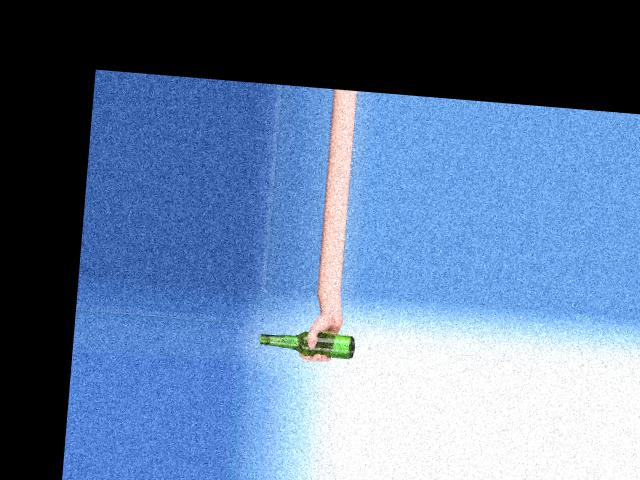beer: (259, 328, 355, 358)
